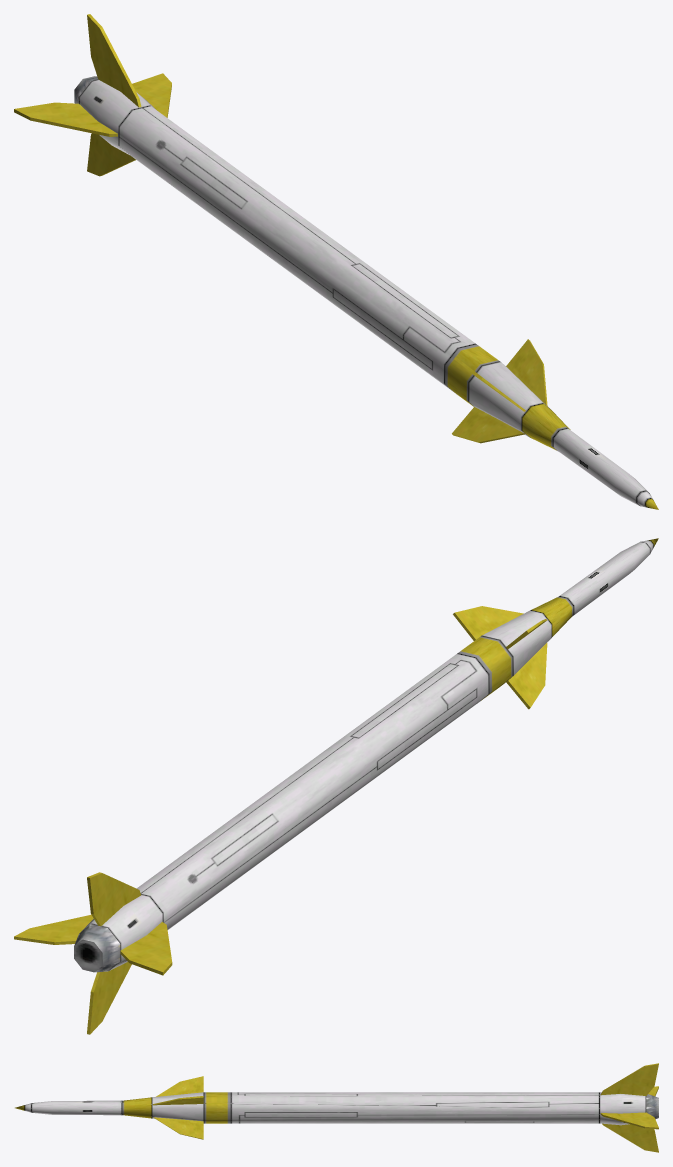
Rendered from wpn_missile_space_s04_l0.fbx.
The picture shows the model from 3 angles, top to bottom: view 1: azimuth 30°, elevation 25°; view 2: azimuth 150°, elevation 25°; view 3: azimuth 270°, elevation 25°; orthographic projection. The views are drawn at different scales.
Parts seen in each view (by area): view 1: mesh_node; view 2: mesh_node; view 3: mesh_node.
Part boxes in pixels (x1=…): mesh_node: x1=14, y1=14, x2=658, y2=509; mesh_node: x1=14, y1=538, x2=658, y2=1034; mesh_node: x1=15, y1=1063, x2=658, y2=1152.
Bounding box in the file's own units: 0.3011 × 0.3023 × 2.
1 material, 1 textured.
